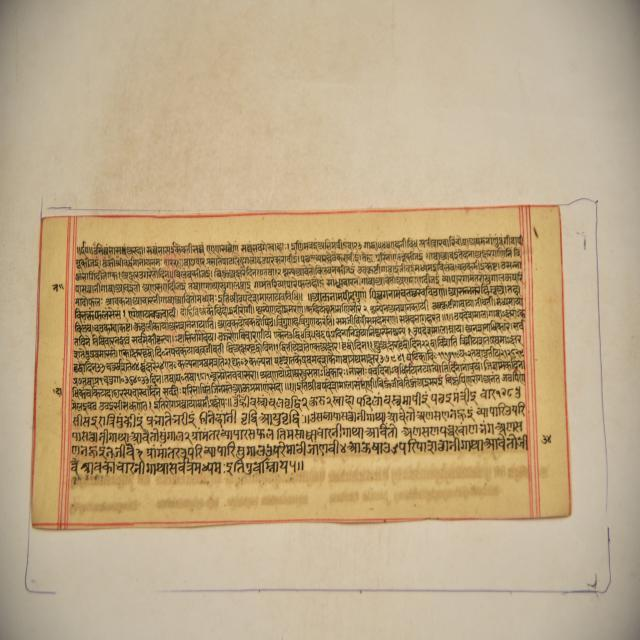text_paragraph: (28, 205, 570, 527)
